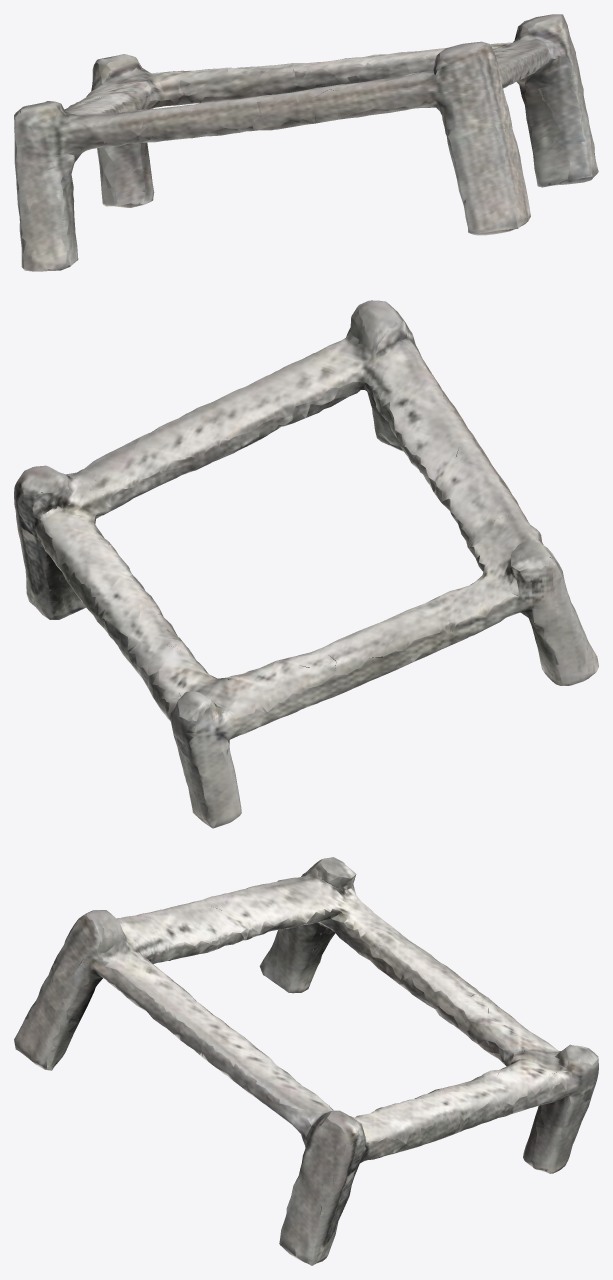
3 renders of one model, top to bottom at view 1: azimuth 30°, elevation 25°; view 2: azimuth 150°, elevation 25°; view 3: azimuth 270°, elevation 25°, orthographic. The views are drawn at different scales.
Parts seen in each view (by area): view 1: world; view 2: world; view 3: world.
Boxes of the visible parts, x1,y1,x2,y2 form: world: (14, 14, 598, 271); world: (14, 300, 598, 828); world: (14, 857, 598, 1265).
Bounding box in the file's own units: 0.9704 × 0.5277 × 0.9564.
1 material, 1 textured.
